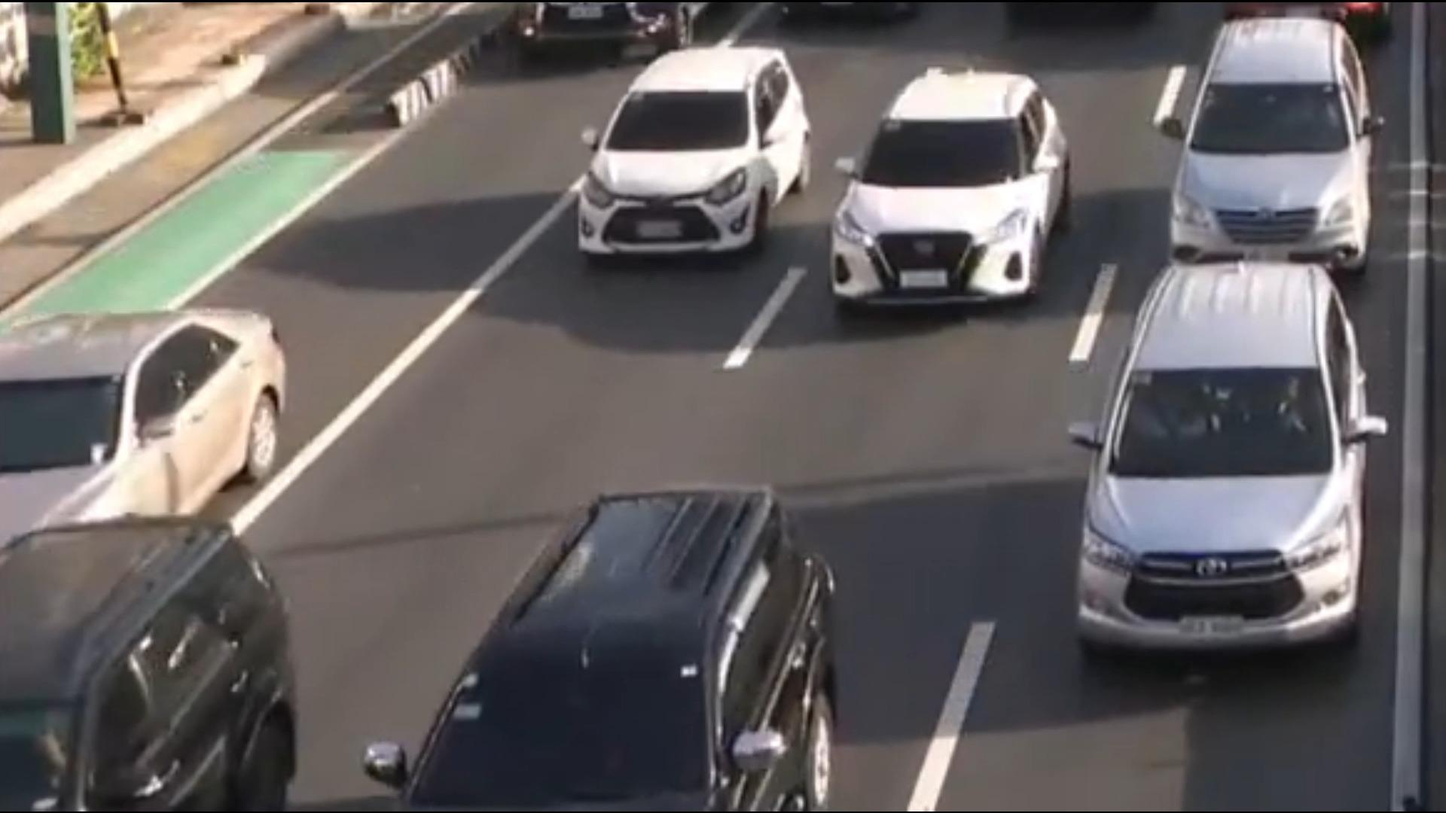SUV: (408, 448, 891, 813), (1067, 262, 1383, 654), (0, 509, 313, 813), (819, 69, 1074, 306), (568, 38, 813, 260), (1163, 18, 1381, 257)
Sedan: (0, 241, 315, 557)
